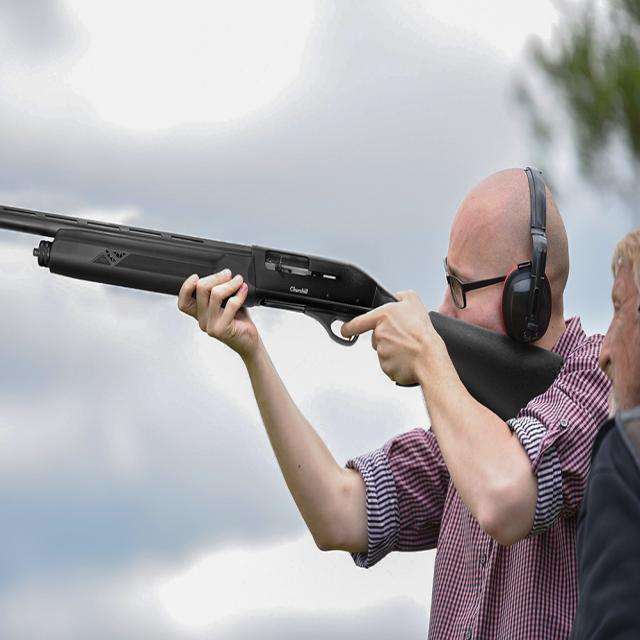ShotGun: (0, 205, 564, 419)
